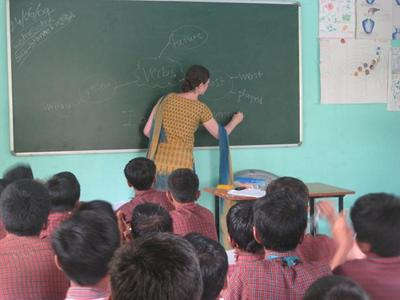person: (142, 65, 244, 194)
